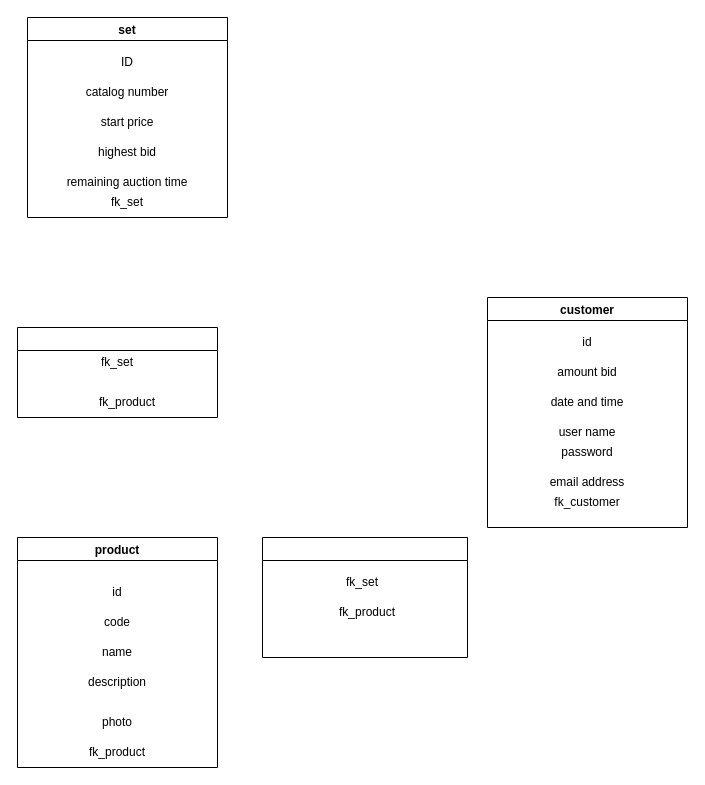
This 705x785 diagram has some shape labels left out. The shapes that lost their labels are listed below. From the top down, each one's box as (x1, y1, x2, y2) in pixels, then its label:
(16, 326, 218, 418): products
(262, 536, 468, 658): customers
